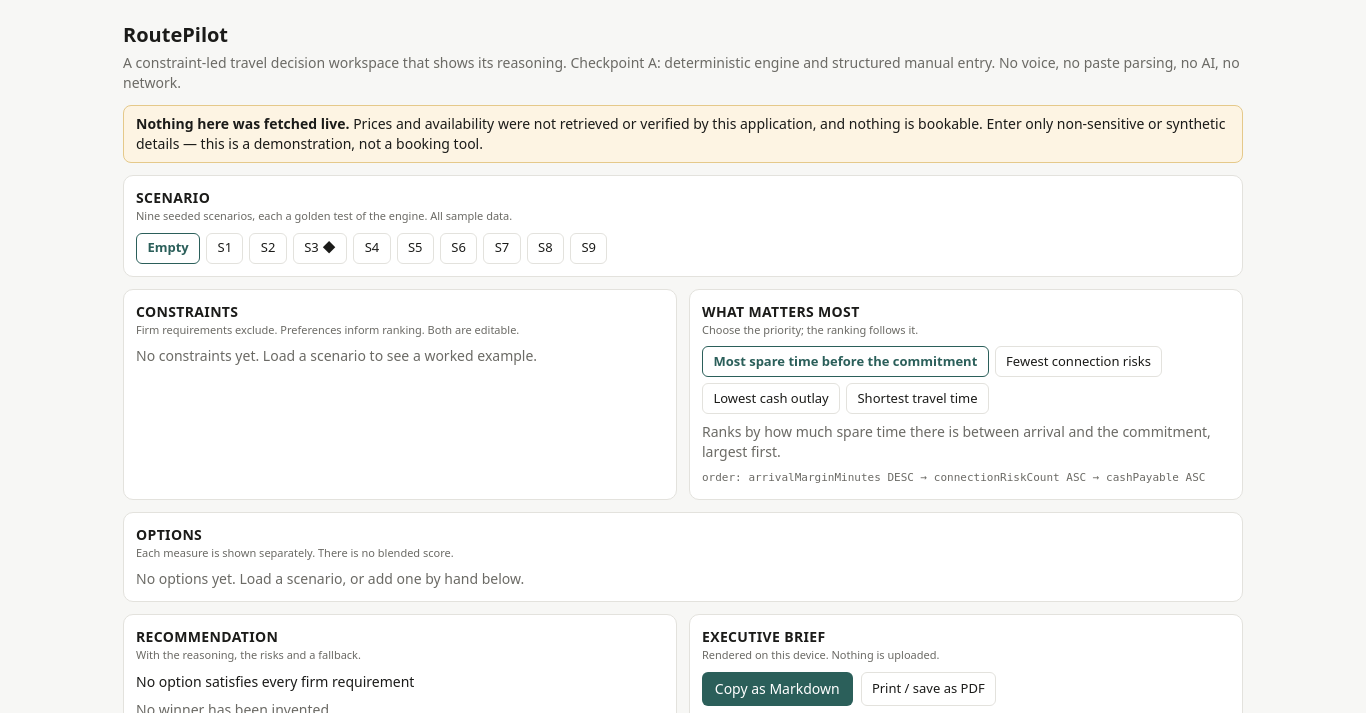
Test: a proposal conflicting with a human-authored constraint › a proposal for a NEW key applies without any conflict prompt
This screenshot has width=1366, height=713.
Click the button "S1".
click(225, 248)  # box x1=206 y1=232 x2=244 y2=264
(page scrolled)
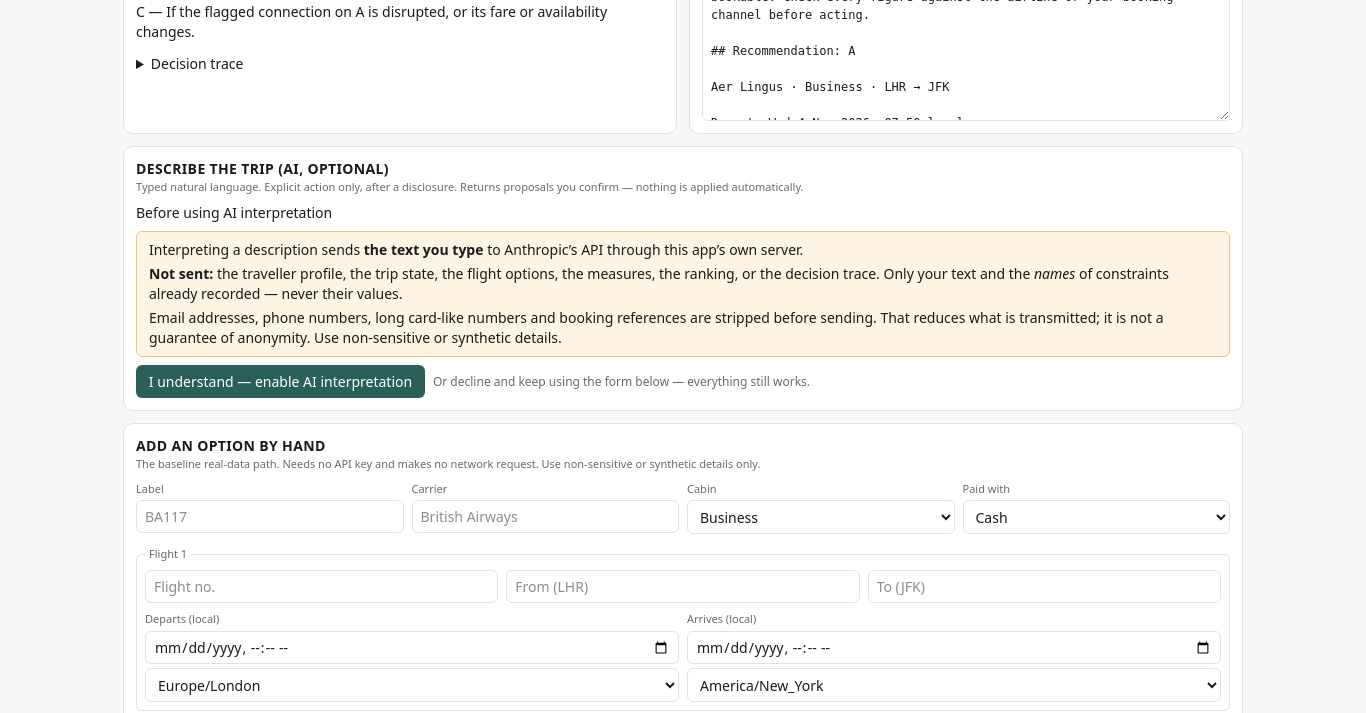
Click the button "I understand — enable AI interpretation".
click(280, 382)  # box x1=136 y1=365 x2=425 y2=398
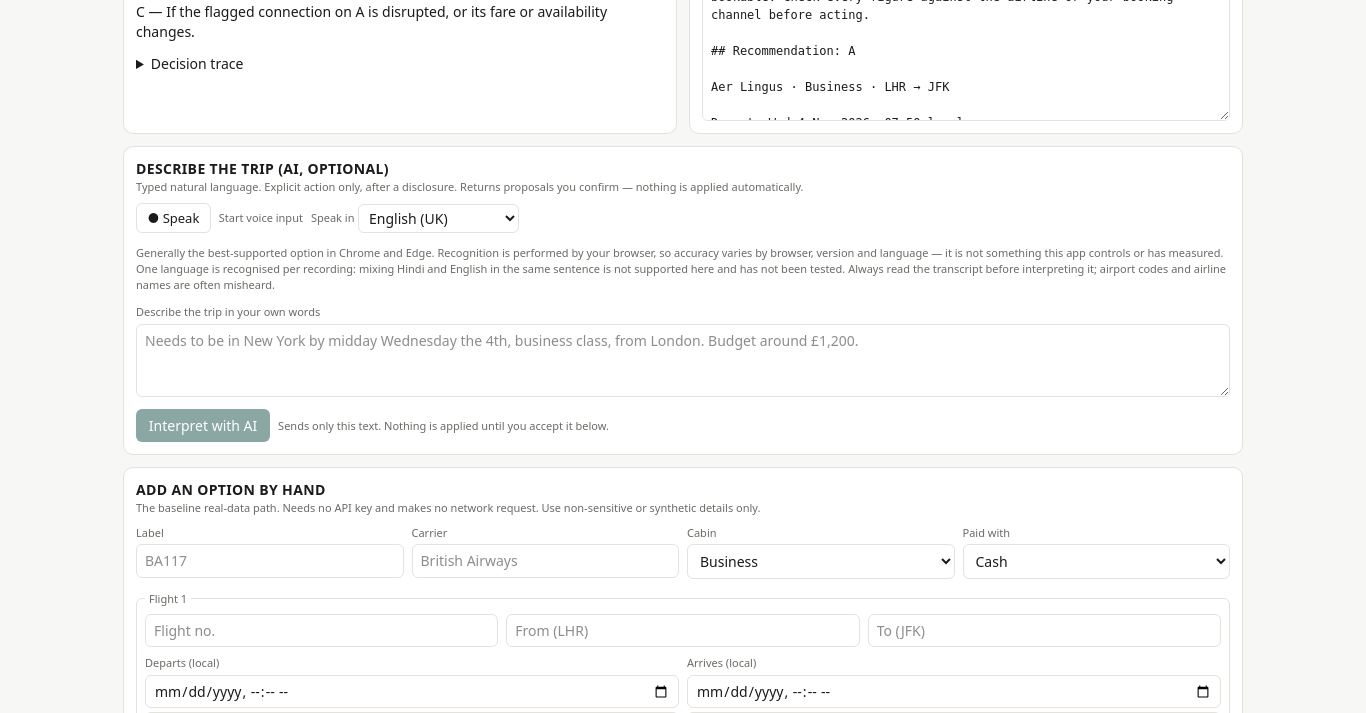
Type "Should land by early evening on the 4th." into the text box labelled "Describe the trip in your own words".
click(683, 361); type("Should land by early evening on the 4th.")  # box x1=136 y1=324 x2=1230 y2=397
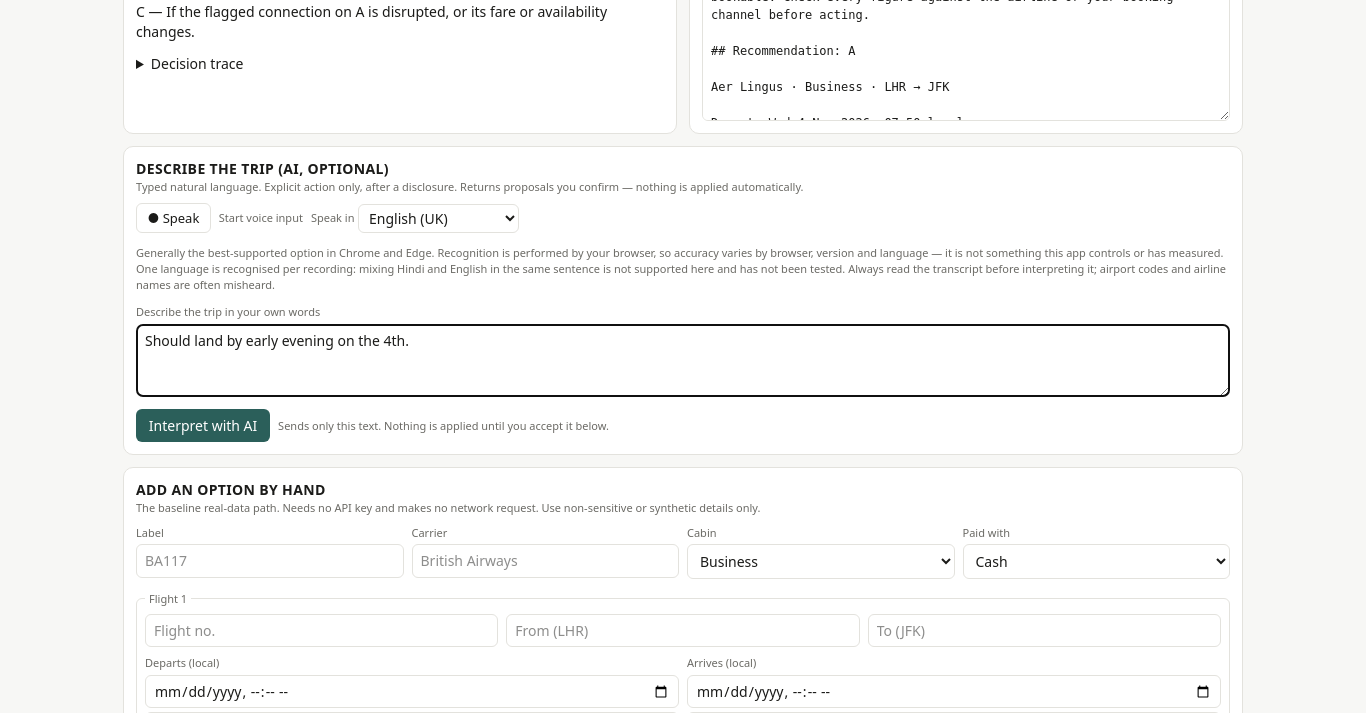
Click the button "Interpret with AI".
click(203, 426)  # box x1=136 y1=409 x2=270 y2=442
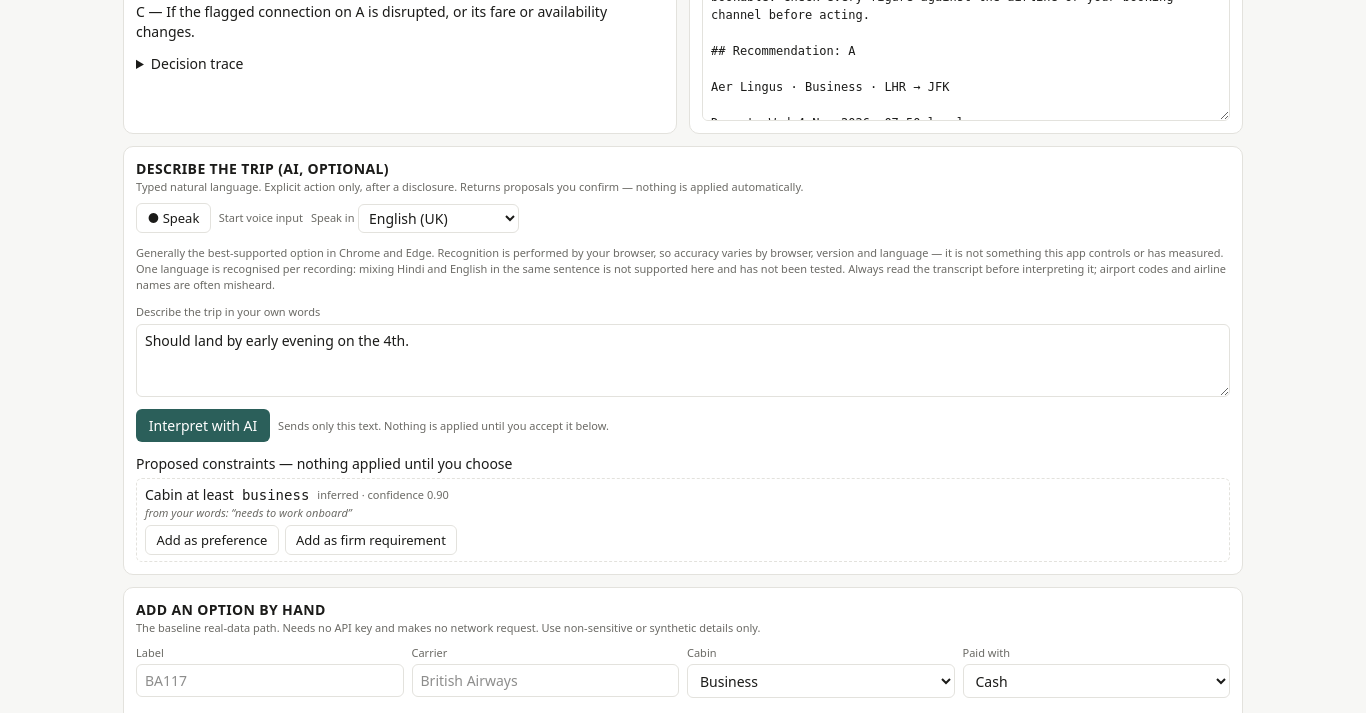
Expected: the heading "Proposed constraints — nothing applied until you choose" is shown, x1=136 y1=454 x2=512 y2=473
Click the button "Add as preference".
click(212, 540)  # box x1=145 y1=525 x2=279 y2=555
(page scrolled)
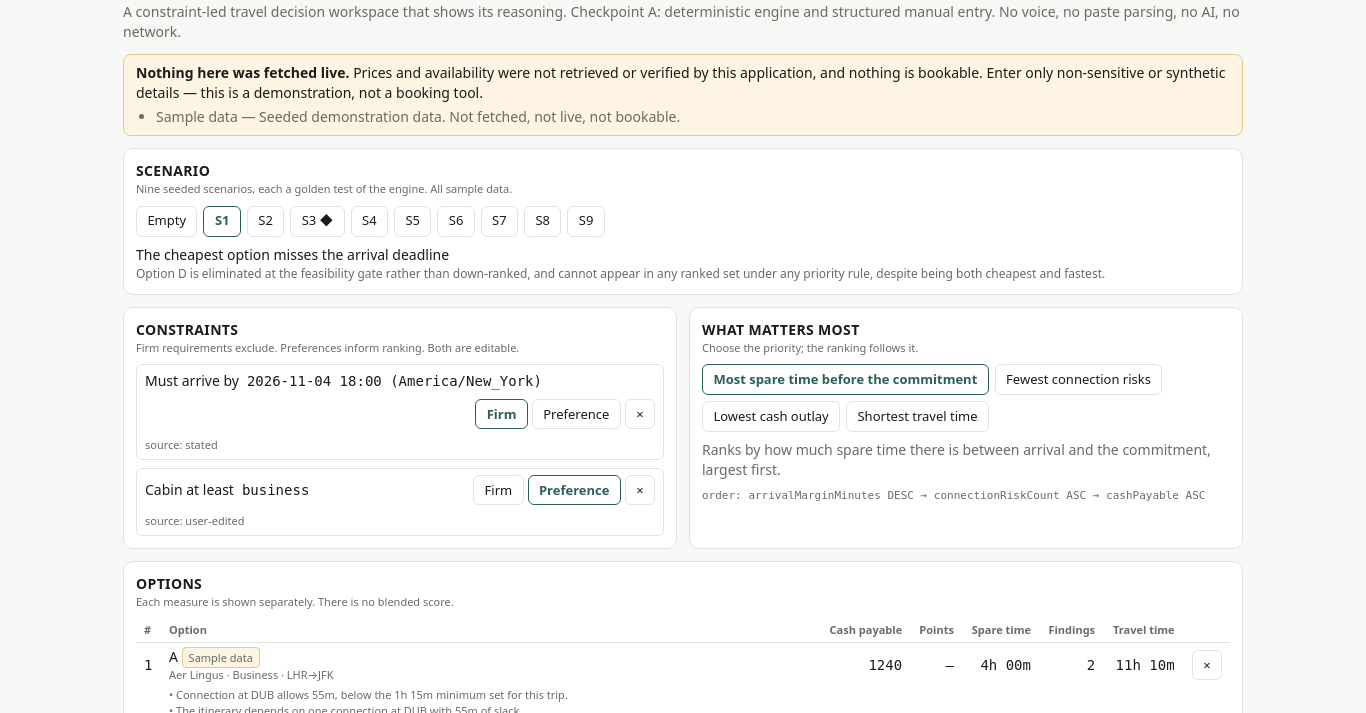
Expected: the text "Must arrive by" is shown, x1=145 y1=371 x2=239 y2=391
Expected: the text "Cabin at least" is shown, x1=145 y1=480 x2=234 y2=500
